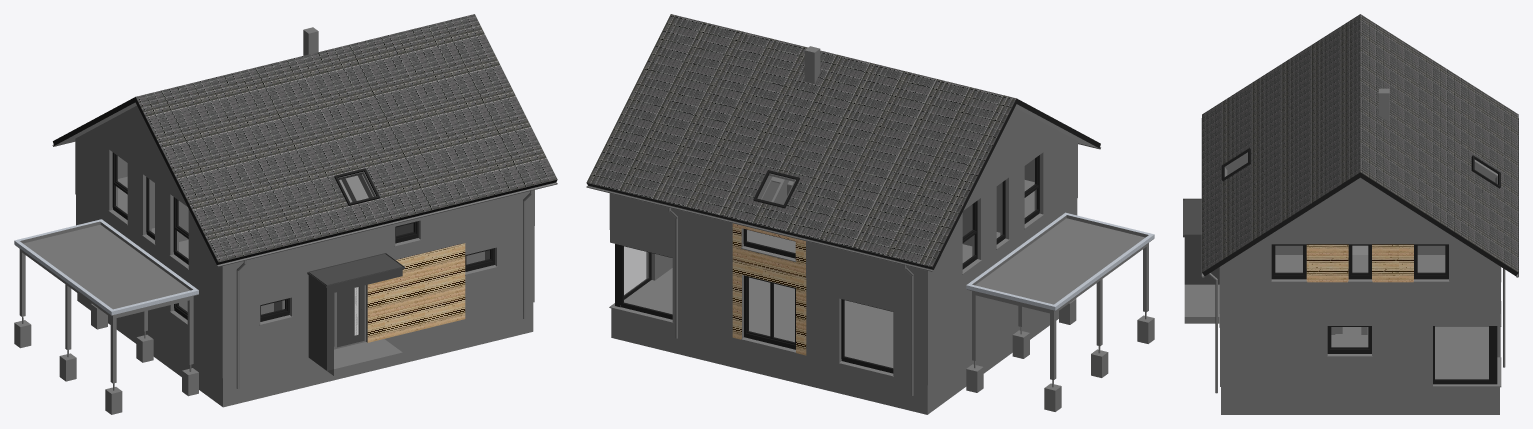
The model's file is model.3faefc_lod2_uncompressed_ktx.gltf.
3 views of the same model, side by side, from view 1: azimuth 30°, elevation 25°; view 2: azimuth 150°, elevation 25°; view 3: azimuth 270°, elevation 25° (orthographic). The views are drawn at different scales.
Bounding box in the file's own units: 15.51 × 9.62 × 11.26.
28 materials, 8 textured.
